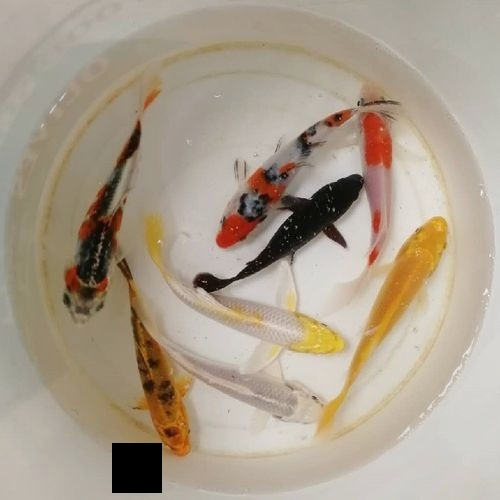fry: (355, 210, 460, 394), (55, 110, 138, 324), (154, 274, 352, 363), (200, 112, 306, 253), (175, 347, 337, 434), (117, 322, 199, 464), (348, 79, 412, 254), (276, 172, 370, 277)
